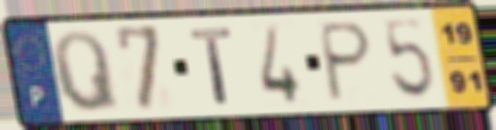4: (256, 21, 307, 108)
5: (380, 16, 439, 102)
7: (111, 24, 166, 116)
P: (318, 20, 376, 105)
Q: (49, 28, 123, 115)
T: (187, 25, 237, 107)
